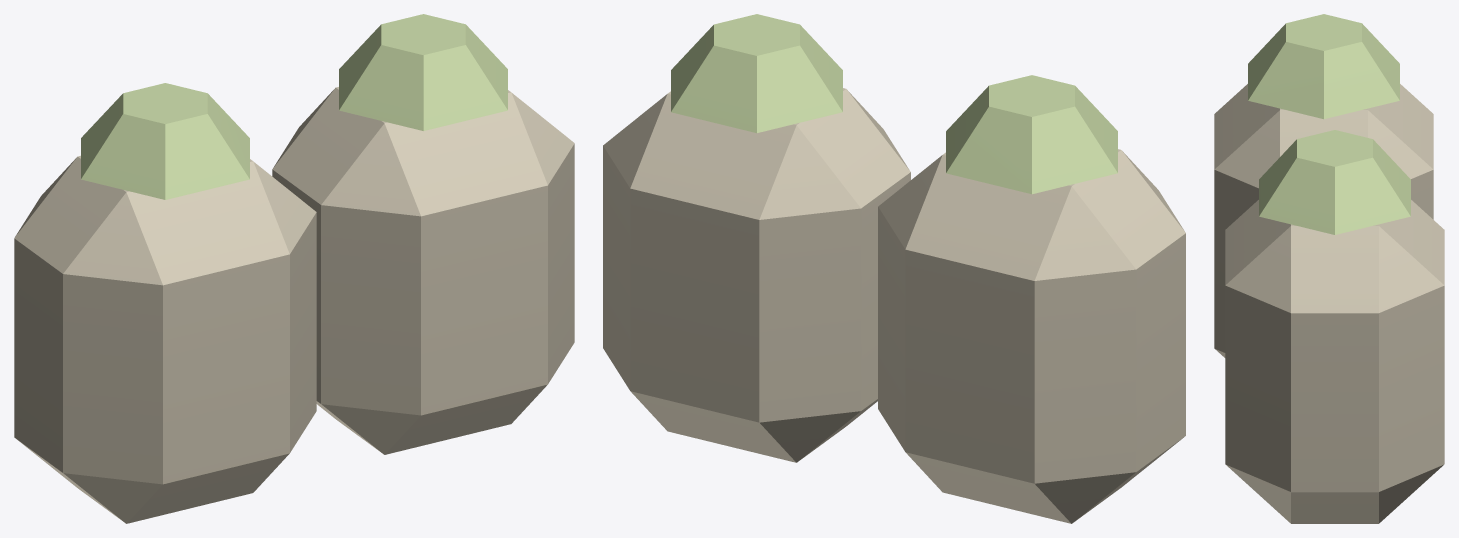
File: herb_sacks.glb
3 renders of one model, left to right at view 1: azimuth 30°, elevation 25°; view 2: azimuth 150°, elevation 25°; view 3: azimuth 270°, elevation 25°, orthographic. The views are drawn at different scales.
Visible parts, largest first — view 1: sack; view 2: sack; view 3: sack.
Boxes of the visible parts, x1,y1,x2,y2 form: sack: [14, 14, 574, 523]; sack: [603, 14, 1185, 523]; sack: [1214, 14, 1444, 523].
Size of the model in its own units: 0.98 by 0.7 by 0.42.
